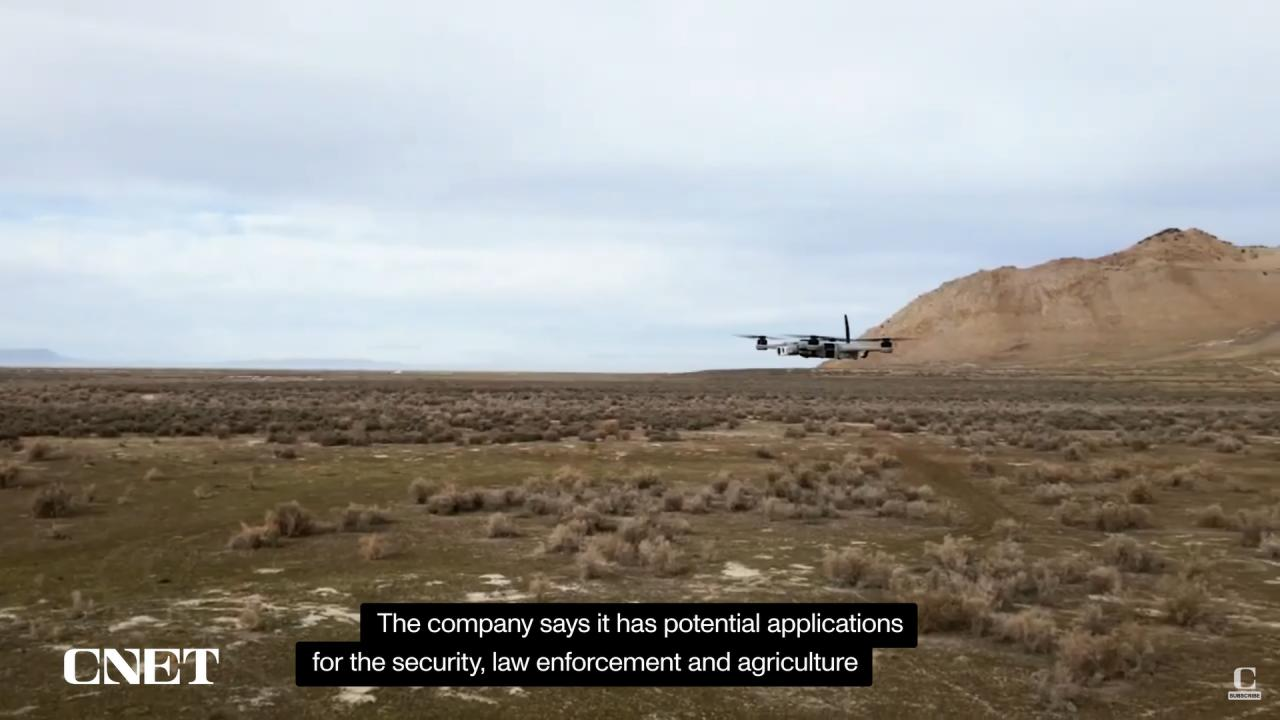Drone: (718, 302, 928, 380)
